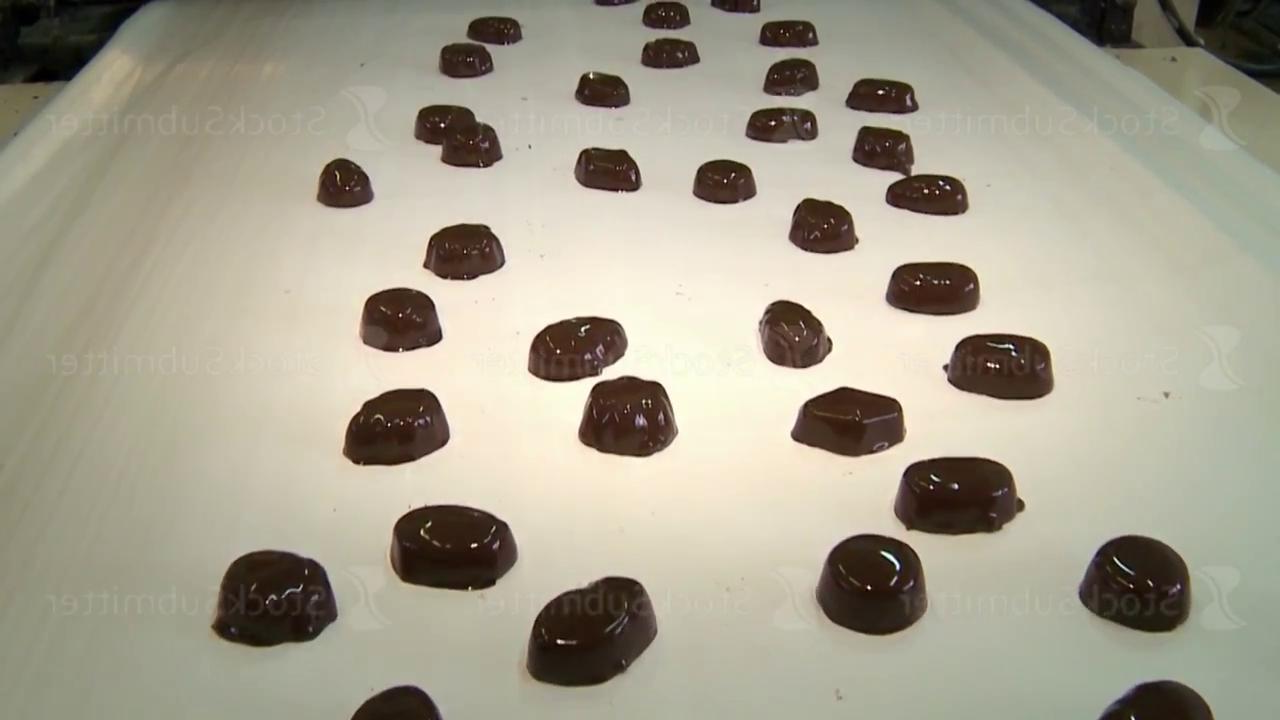chocolate: (527, 575, 658, 686), (212, 549, 338, 646), (816, 533, 928, 634), (390, 503, 518, 590), (1079, 533, 1191, 632), (894, 455, 1024, 534), (343, 387, 450, 466), (579, 375, 678, 457), (791, 386, 906, 456), (945, 332, 1054, 399), (528, 315, 628, 381), (360, 287, 442, 352), (886, 261, 981, 315), (759, 299, 833, 368), (423, 223, 506, 280), (1098, 679, 1214, 719), (789, 197, 858, 253), (887, 173, 968, 215), (351, 684, 443, 719), (575, 147, 642, 192), (853, 125, 914, 173), (693, 159, 757, 204), (441, 122, 503, 167), (318, 158, 374, 207), (746, 106, 818, 143), (846, 78, 919, 113), (415, 104, 475, 143), (764, 57, 819, 96), (576, 70, 630, 107), (642, 37, 700, 69), (440, 42, 493, 77), (760, 19, 819, 47), (468, 16, 523, 45), (643, 1, 691, 29)
